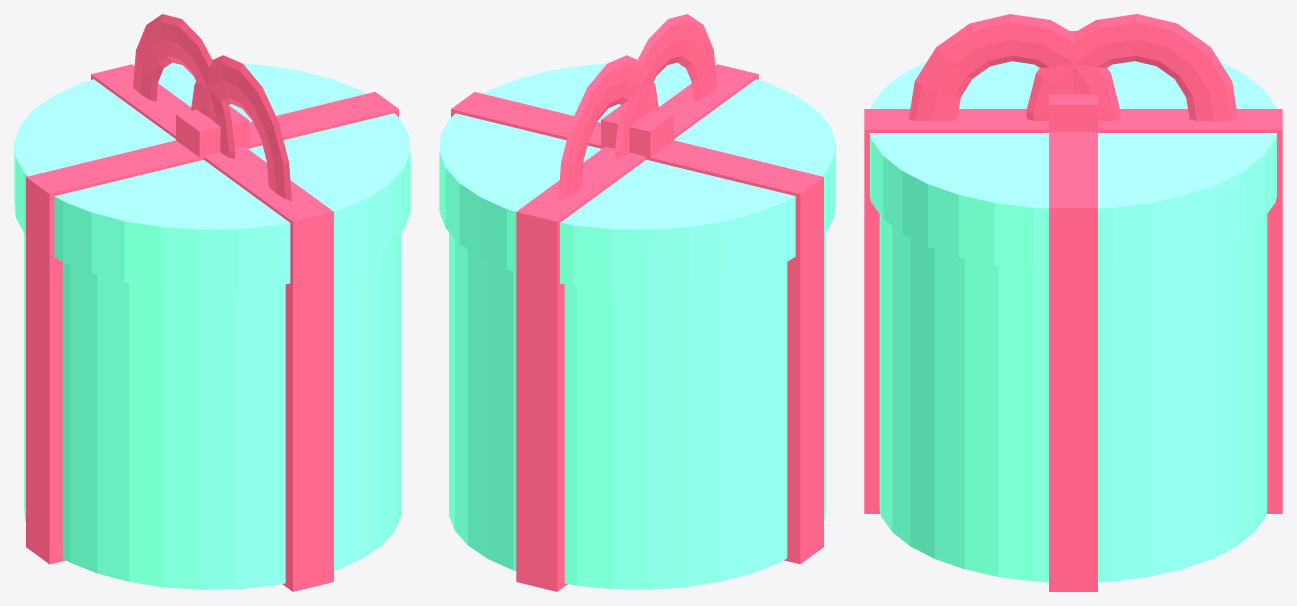
The model's file is Tmpl_Round_Root_226.glb.
3 views of the same model, side by side, from view 1: azimuth 30°, elevation 25°; view 2: azimuth 150°, elevation 25°; view 3: azimuth 270°, elevation 25° (orthographic). The views are drawn at different scales.
Parts seen in each view (by area): view 1: Tmpl_Round_Base.224, Tmpl_Round_Lid.224, Tmpl_Round_Ribbon_X.224, Tmpl_Round_Ribbon_Y.224, Tmpl_Round_BowL.224, Tmpl_Round_BowR.224, Tmpl_Round_BowKnot.224; view 2: Tmpl_Round_Base.224, Tmpl_Round_Lid.224, Tmpl_Round_Ribbon_X.224, Tmpl_Round_Ribbon_Y.224, Tmpl_Round_BowR.224, Tmpl_Round_BowL.224, Tmpl_Round_BowKnot.224; view 3: Tmpl_Round_Base.224, Tmpl_Round_Lid.224, Tmpl_Round_Ribbon_Y.224, Tmpl_Round_Ribbon_X.224, Tmpl_Round_BowL.224, Tmpl_Round_BowR.224, Tmpl_Round_BowKnot.224.
Boxes of the visible parts, left/top/right/bottom form: Tmpl_Round_Base.224: left=24, top=232, right=400, bottom=589; Tmpl_Round_Lid.224: left=14, top=63, right=410, bottom=290; Tmpl_Round_Ribbon_X.224: left=91, top=64, right=333, bottom=591; Tmpl_Round_Ribbon_Y.224: left=26, top=92, right=398, bottom=564; Tmpl_Round_BowL.224: left=133, top=14, right=235, bottom=158; Tmpl_Round_BowR.224: left=191, top=55, right=291, bottom=200; Tmpl_Round_BowKnot.224: left=176, top=105, right=248, bottom=160; Tmpl_Round_Base.224: left=449, top=232, right=825, bottom=589; Tmpl_Round_Lid.224: left=439, top=63, right=835, bottom=290; Tmpl_Round_Ribbon_X.224: left=516, top=64, right=758, bottom=591; Tmpl_Round_Ribbon_Y.224: left=451, top=92, right=823, bottom=564; Tmpl_Round_BowR.224: left=614, top=14, right=716, bottom=158; Tmpl_Round_BowL.224: left=558, top=55, right=658, bottom=200; Tmpl_Round_BowKnot.224: left=601, top=105, right=673, bottom=160; Tmpl_Round_Base.224: left=879, top=214, right=1267, bottom=582; Tmpl_Round_Lid.224: left=870, top=61, right=1276, bottom=271; Tmpl_Round_Ribbon_Y.224: left=1049, top=31, right=1097, bottom=591; Tmpl_Round_Ribbon_X.224: left=864, top=109, right=1282, bottom=513; Tmpl_Round_BowL.224: left=1026, top=14, right=1238, bottom=121; Tmpl_Round_BowR.224: left=909, top=14, right=1120, bottom=121; Tmpl_Round_BowKnot.224: left=1049, top=94, right=1097, bottom=131.
Bounding box in the file's own units: 1.04 × 1.34 × 1.04.
